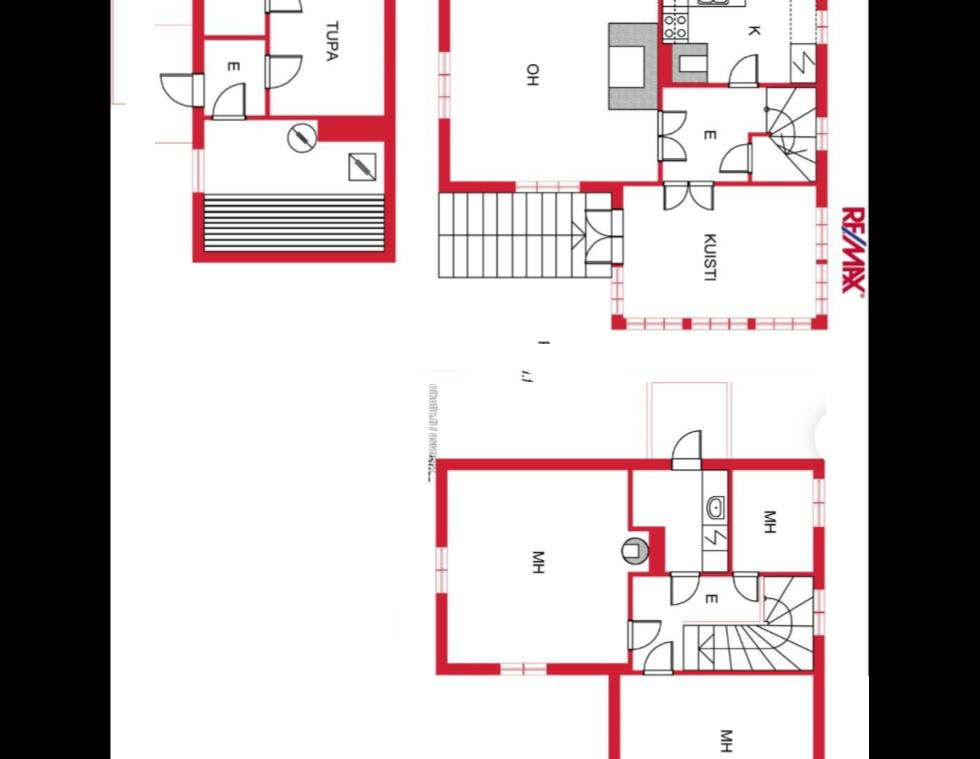door: (156, 69, 210, 108), (262, 50, 306, 94), (206, 78, 248, 120), (724, 50, 763, 94), (664, 566, 704, 608), (669, 427, 706, 470), (584, 232, 628, 267), (640, 635, 677, 676), (584, 204, 627, 236), (718, 138, 756, 174), (624, 616, 664, 649), (686, 174, 718, 214), (728, 566, 762, 601), (653, 105, 690, 136), (659, 179, 691, 214), (655, 131, 687, 162), (262, 0, 304, 16)
window: (432, 43, 454, 128), (619, 312, 691, 334), (428, 538, 452, 601), (490, 655, 556, 677), (186, 140, 208, 206), (682, 313, 754, 332), (810, 467, 830, 532), (812, 198, 832, 263), (814, 255, 834, 319), (509, 176, 586, 192), (810, 580, 830, 640), (810, 2, 834, 52), (747, 315, 819, 331), (812, 109, 831, 154), (615, 260, 628, 317)
